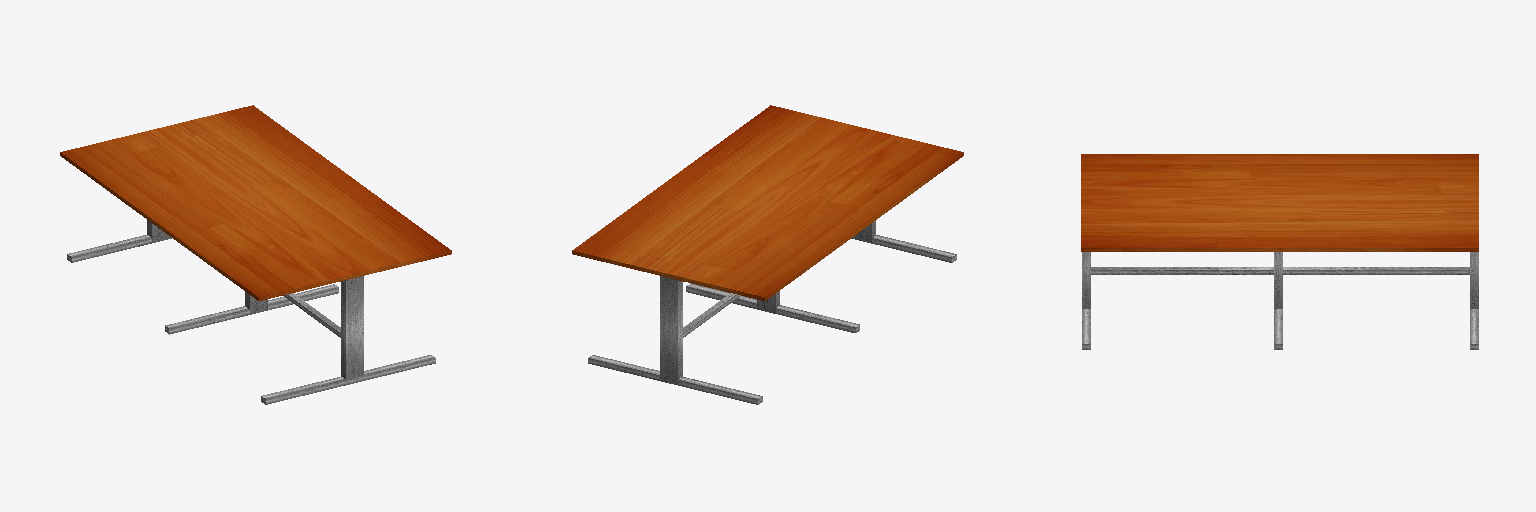
The picture shows the model from 3 angles: view 1: azimuth 30°, elevation 25°; view 2: azimuth 150°, elevation 25°; view 3: azimuth 270°, elevation 25°; orthographic projection.
Parts seen in each view (by area): view 1: Box001, Box002, Box008, Box006, Box007, Box005; view 2: Box001, Box004, Box007, Box006, Box008, Box005; view 3: Box001, Box005.
Boxes of the visible parts, box(x1,y1,x2,y2) form: Box001: box(60, 105, 451, 300); Box002: box(341, 276, 363, 379); Box008: box(261, 355, 435, 404); Box006: box(165, 284, 338, 334); Box007: box(67, 235, 171, 262); Box005: box(283, 293, 340, 337); Box001: box(572, 105, 963, 300); Box004: box(660, 276, 682, 384); Box007: box(588, 355, 762, 404); Box006: box(686, 283, 859, 332); Box008: box(851, 235, 956, 262); Box005: box(683, 293, 740, 337); Box001: box(1081, 154, 1478, 251); Box005: box(1091, 267, 1469, 274).
Bounding box in the file's own units: 55.78 × 30.21 × 99.53.
Materials: 2 (2 with a texture image).